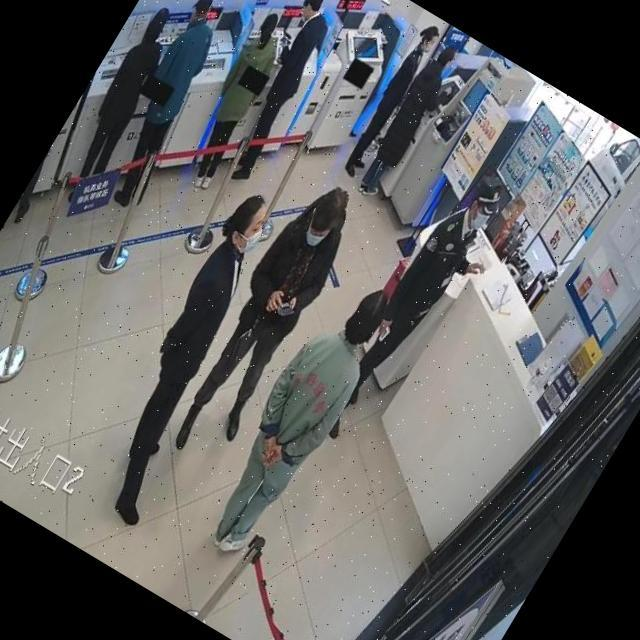person: (62, 185, 316, 532), (63, 185, 314, 530), (186, 268, 407, 570), (156, 170, 374, 470), (312, 165, 526, 461), (83, 0, 254, 216), (205, 0, 353, 189), (53, 3, 194, 198), (165, 6, 305, 198), (3, 31, 132, 233), (166, 8, 304, 195), (348, 40, 469, 208), (336, 20, 446, 182), (0, 105, 83, 278)
